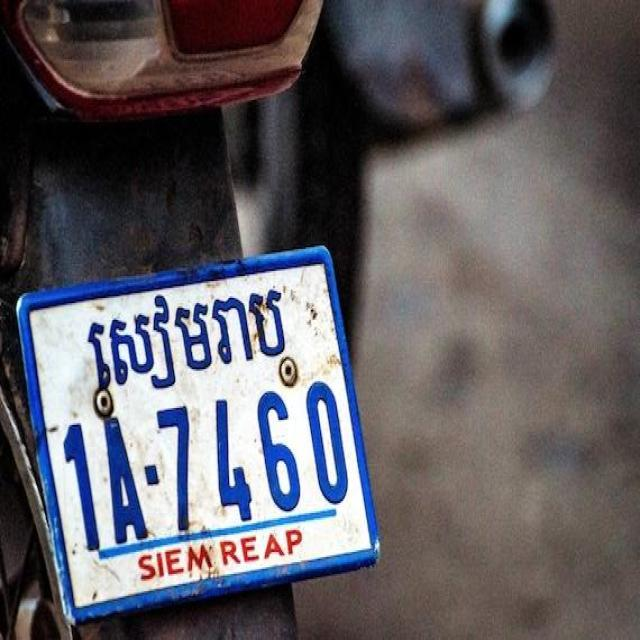Siem_Reap: (87, 288, 285, 388)
